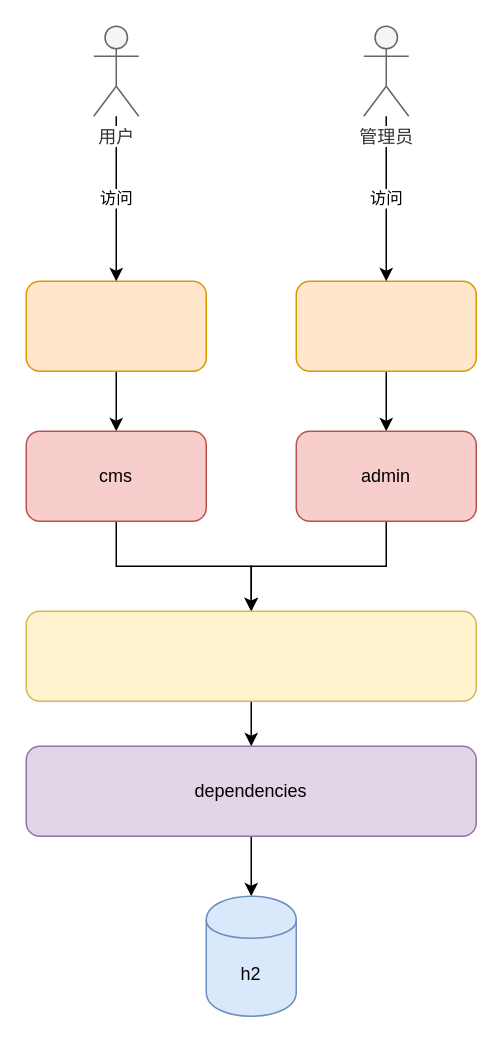
Image size: 503x1043. Some labels were removed from this diagram. Each missing label, with the box of its shape:
common: (25, 610, 476, 701)
dashboard: (295, 280, 476, 371)
portal: (25, 280, 206, 371)
